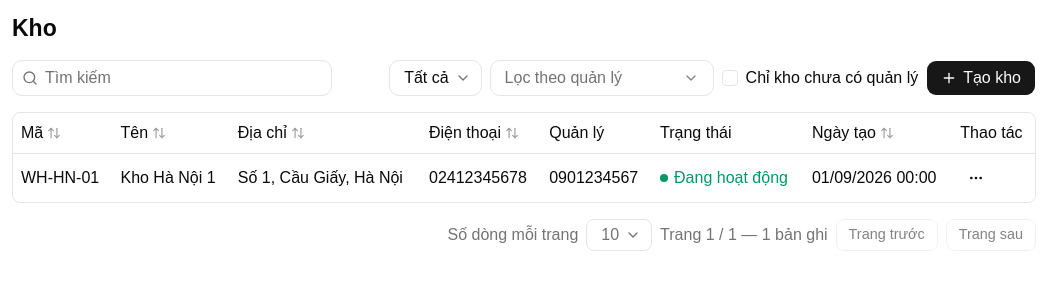
Scenario: WarehousesPage — sắp xếp (cờ bật) › header cột bấm được và gửi sortBy + sort lên backend
Expected: the link "Kho Hà Nội 1" is shown, [120,166,216,190]
Click the button "Tên".
click(143, 133)  # box [112,117,174,149]
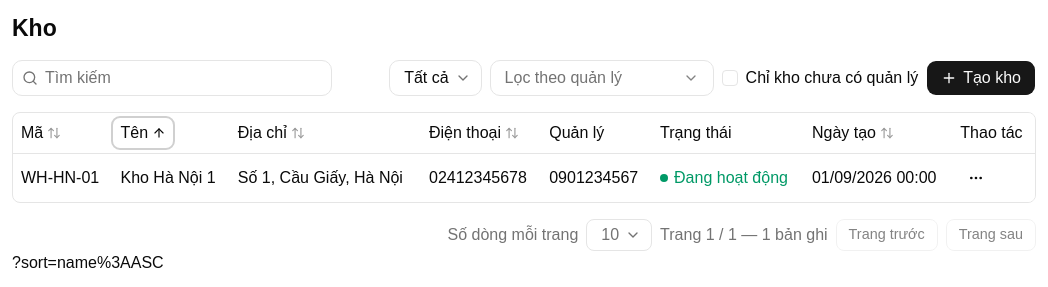
Result: the text with test id "location" shows "sort=name%3AASC" at [12,254,164,270]
